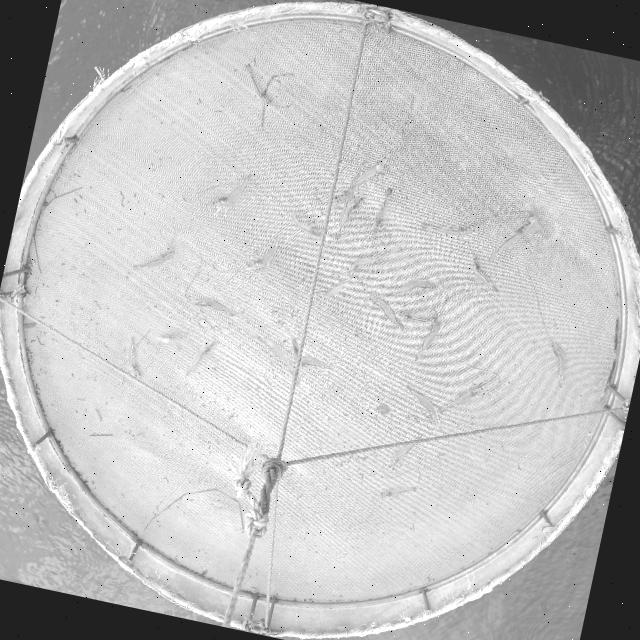shrimp: (336, 153, 390, 204), (211, 174, 250, 215), (255, 333, 293, 375), (405, 387, 440, 429), (437, 383, 484, 414), (468, 248, 498, 293), (345, 245, 385, 277), (335, 195, 363, 239), (414, 312, 439, 361), (367, 295, 403, 327), (245, 236, 279, 269), (245, 63, 271, 106), (186, 339, 215, 375), (133, 247, 174, 270), (372, 187, 392, 233), (548, 339, 566, 387), (291, 211, 323, 237), (388, 278, 436, 295), (385, 443, 416, 469), (394, 309, 441, 326), (421, 223, 477, 237), (193, 297, 234, 315), (315, 277, 346, 296), (126, 337, 140, 376), (378, 487, 417, 498), (299, 358, 332, 370), (157, 333, 180, 348)
